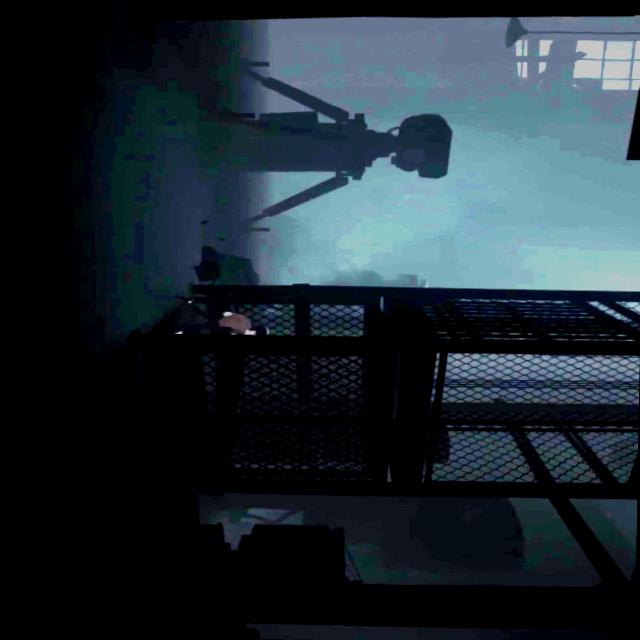boy: (173, 300, 271, 336)
